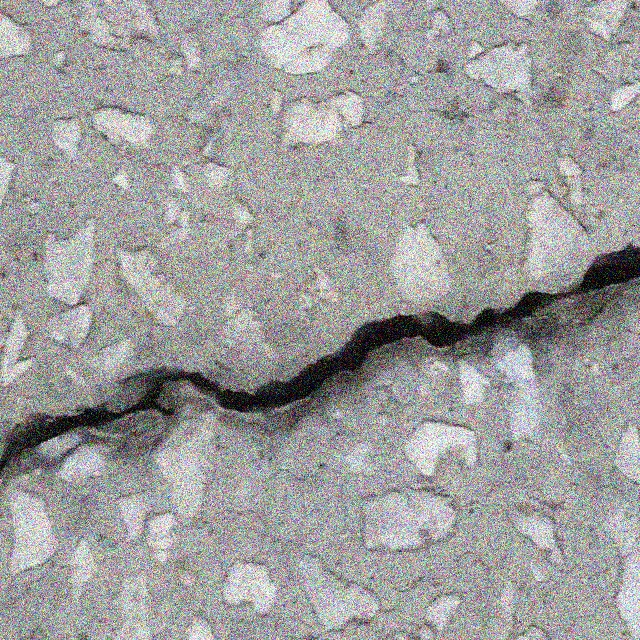SurfaceCrack: (2, 214, 640, 498)
